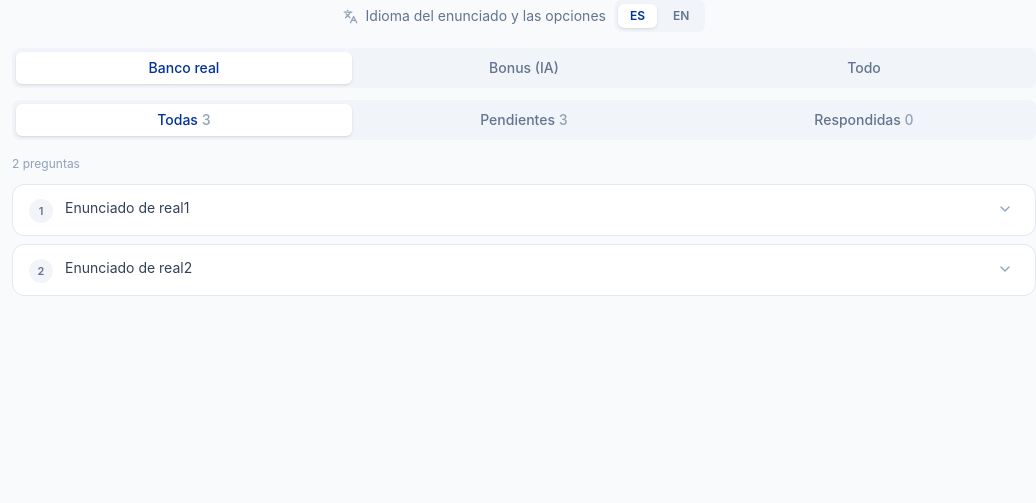
Test case: marca de pregunta ya evaluada › la marca sobrevive al plegar, que es cuando hace falta
The width and height of the screenshot is (1036, 503).
Click the button named "Abrir la pregunta" in the row of "Enunciado de real1" at [1005, 209], box left=991, top=195, right=1019, bottom=223
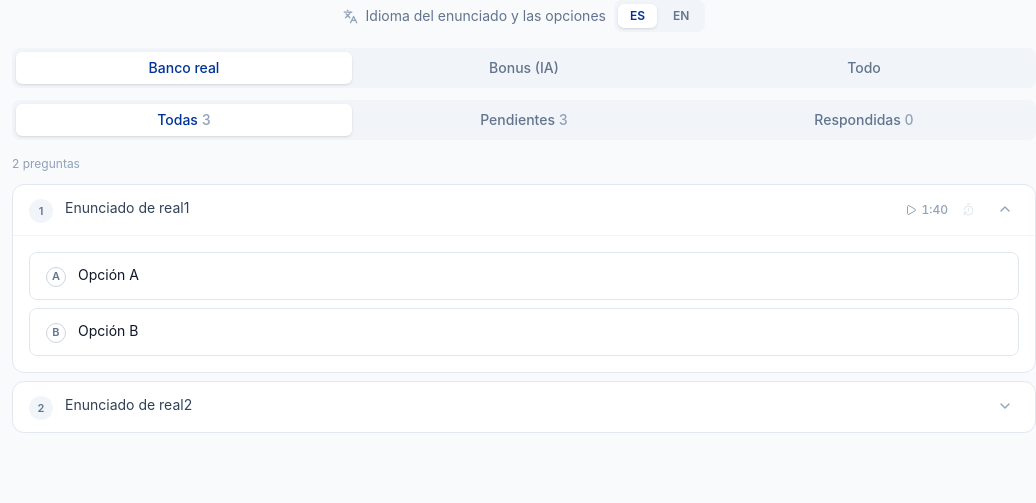
Click the button "A Opción A" at [108, 274], box left=29, top=252, right=1019, bottom=300
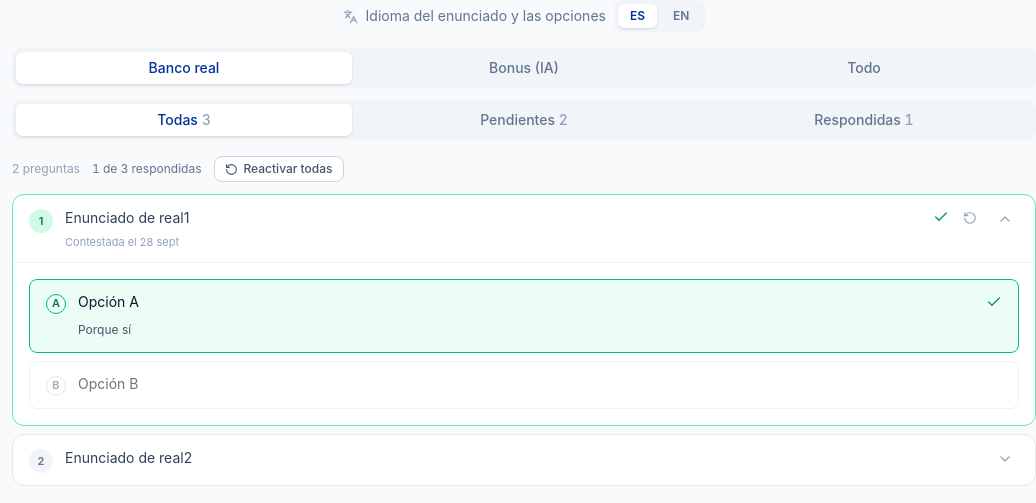
Click the button named "Plegar la pregunta" at [1005, 219], box left=991, top=205, right=1019, bottom=233
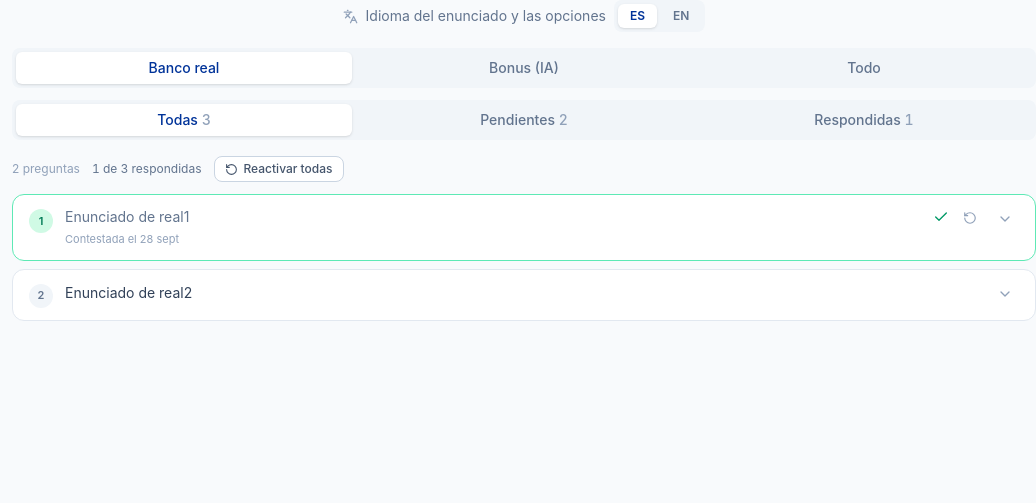
Expected: the button "Opción A" is gone
